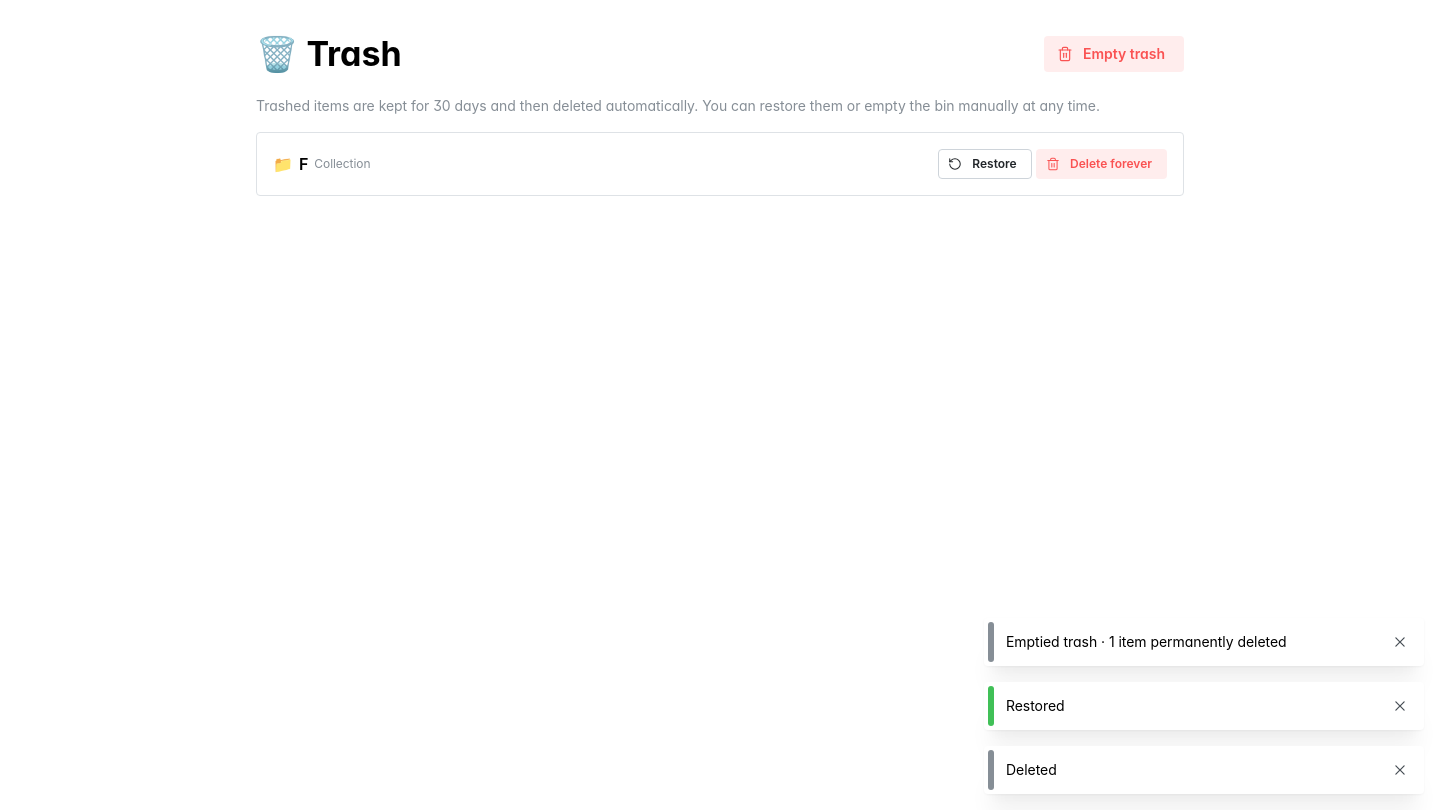
Test case: Trash interactions › Delete forever folder uses everything-inside copy
Click the button "Delete forever". click: [1101, 164]
box: [1036, 150, 1167, 180]
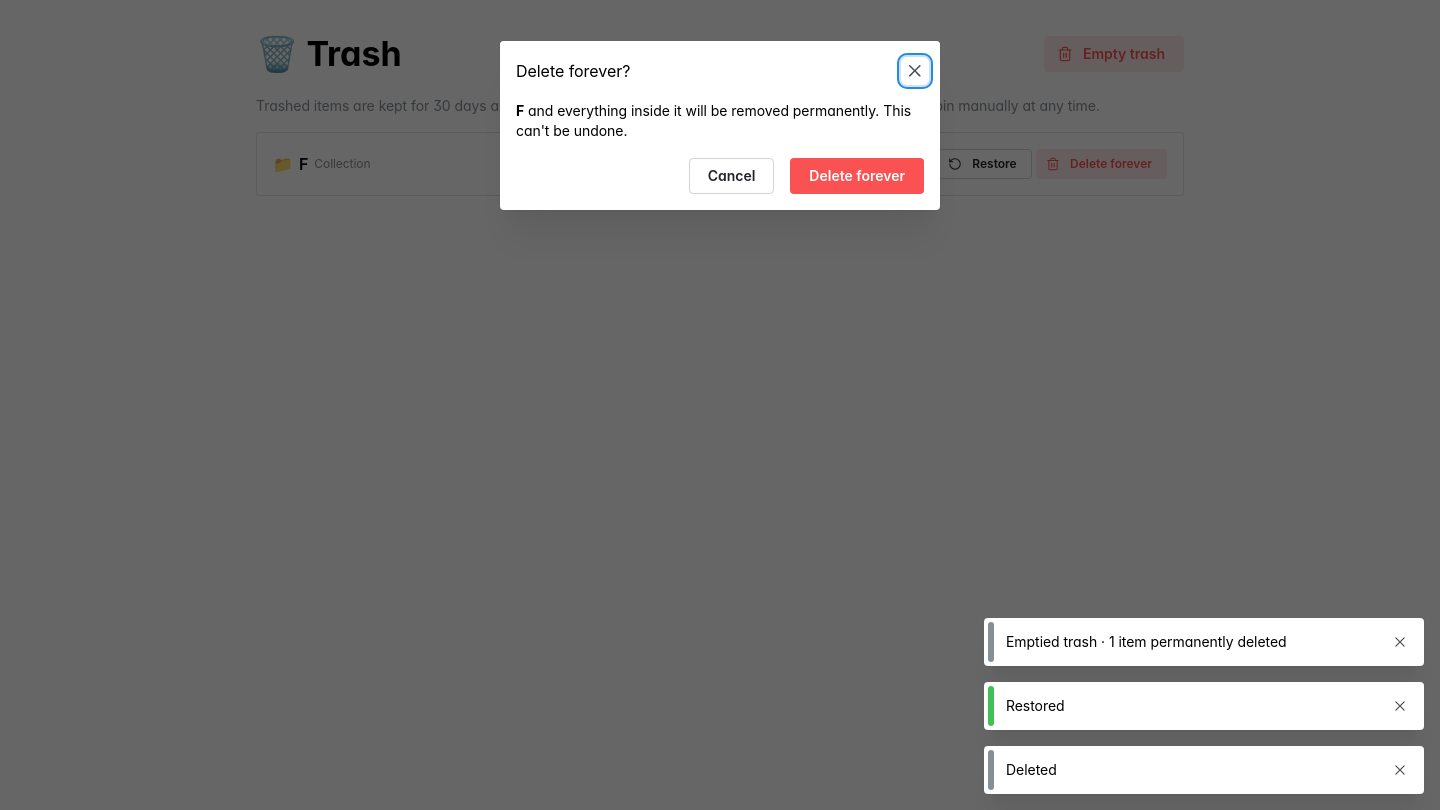
Expected: the text "everything inside it" is shown, [557, 102, 682, 118]
